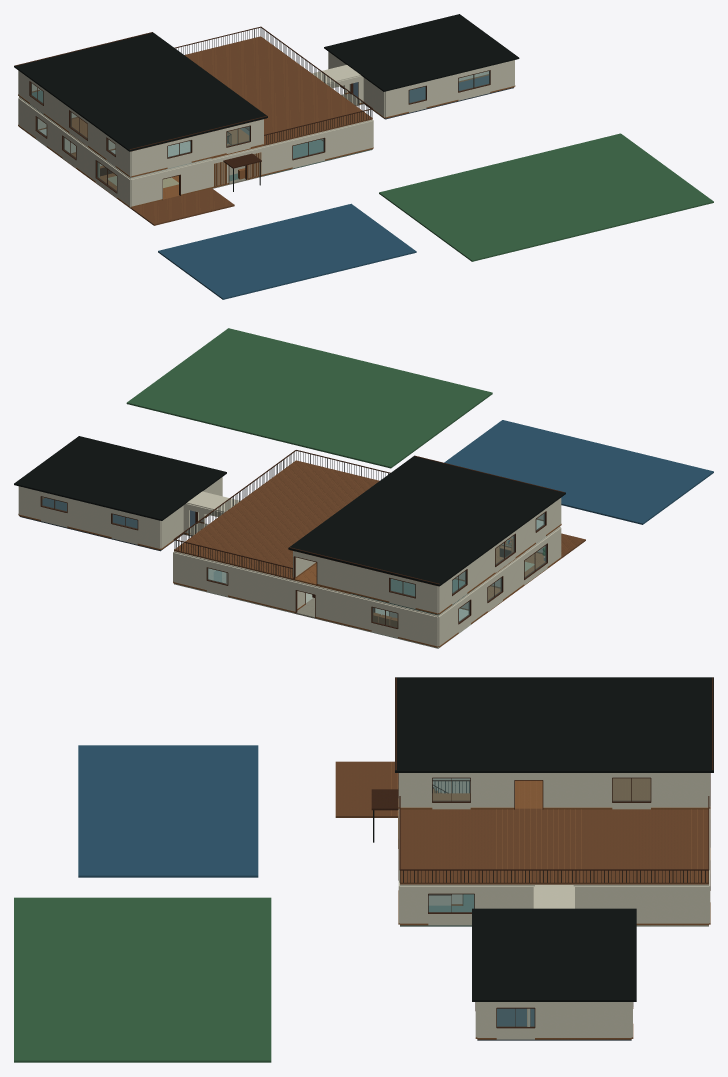
Rendered from house-v6.glb.
The picture shows the model from 3 angles, top to bottom: view 1: azimuth 30°, elevation 25°; view 2: azimuth 150°, elevation 25°; view 3: azimuth 270°, elevation 25°; orthographic projection. The views are drawn at different scales.
Parts seen in each view (by area): view 1: V2_house_metal.006, V2_house_court_green.006, V2_house_plaster.006, V2_house_court_blue.006, V2_house_deck.006, V2_house_walnut.006, V2_house_glass.006, V2_house_oak.006, V2_house_rubber.006, V2_house_carpet.006, V2_house_tile.006; view 2: V2_house_metal.006, V2_house_court_green.006, V2_house_plaster.006, V2_house_court_blue.006, V2_house_deck.006, V2_house_walnut.006, V2_house_glass.006, V2_house_oak.006, V2_house_tile.006, V2_house_rubber.006, V2_house_carpet.006; view 3: V2_house_metal.006, V2_house_court_green.006, V2_house_deck.006, V2_house_court_blue.006, V2_house_plaster.006, V2_house_oak.006, V2_house_walnut.006, V2_house_glass.006, V2_house_oak2.006, V2_house_rubber.006.
Boxes of the visible parts, x1,y1,x2,y2 form: V2_house_metal.006: (14,14,519,191); V2_house_court_green.006: (379,133,713,261); V2_house_plaster.006: (18,51,514,207); V2_house_court_blue.006: (158,203,416,299); V2_house_deck.006: (130,36,372,225); V2_house_walnut.006: (15,26,490,199); V2_house_glass.006: (31,71,489,191); V2_house_oak.006: (18,74,515,208); V2_house_rubber.006: (341,75,513,119); V2_house_carpet.006: (19,90,372,181); V2_house_tile.006: (19,127,211,178); V2_house_metal.006: (14,436,565,586); V2_house_court_green.006: (126,328,492,468); V2_house_plaster.006: (18,477,561,647); V2_house_court_blue.006: (444,420,713,524); V2_house_deck.006: (174,460,585,580); V2_house_walnut.006: (40,450,564,628); V2_house_glass.006: (42,497,546,627); V2_house_oak.006: (18,497,561,647); V2_house_tile.006: (174,520,560,648); V2_house_rubber.006: (19,498,208,551); V2_house_carpet.006: (350,579,478,615); V2_house_metal.006: (373,677,713,1001); V2_house_court_green.006: (14,897,271,1062); V2_house_deck.006: (335,761,708,884); V2_house_court_blue.006: (78,745,258,877); V2_house_plaster.006: (398,773,710,1039); V2_house_oak.006: (398,778,710,1039); V2_house_walnut.006: (371,677,713,1028); V2_house_glass.006: (429,778,650,1026); V2_house_oak2.006: (391,762,703,882); V2_house_rubber.006: (477,1008,631,1040).
Bounding box in the file's own units: 58 × 7.31 × 54.4.
22 materials, 9 textured.
